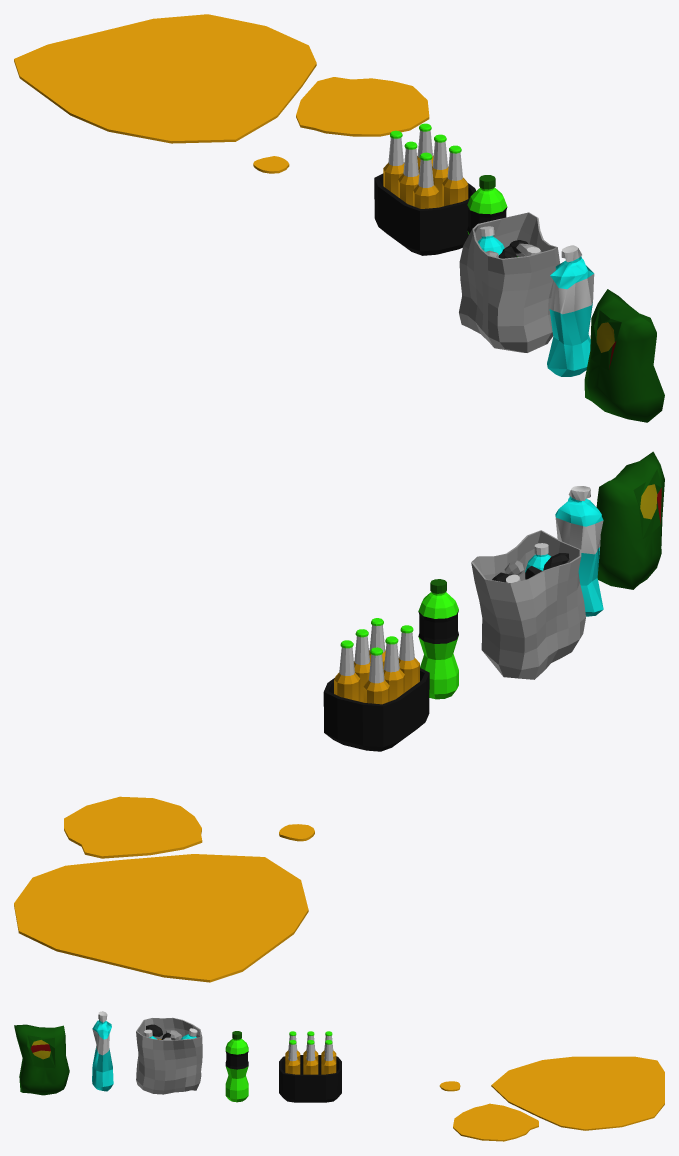
File: Przedmioty.fbx
3 views of the same model, one above another, from view 1: azimuth 30°, elevation 25°; view 2: azimuth 150°, elevation 25°; view 3: azimuth 270°, elevation 25° (orthographic). The views are drawn at different scales.
Visible parts, largest first — view 1: Rzygi, Śmieci, Krata Piwa, Chipsy, Butelka, Soda; view 2: Rzygi, Śmieci, Krata Piwa, Chipsy, Soda, Butelka; view 3: Rzygi, Śmieci, Krata Piwa, Chipsy, Soda, Butelka.
Boxes of the visible parts, x1,y1,x2,y2 form: Rzygi: (14,14,429,173); Śmieci: (459,212,560,352); Krata Piwa: (374,123,475,255); Chipsy: (584,289,664,422); Butelka: (547,245,594,376); Soda: (467,175,507,234); Rzygi: (14,796,314,982); Śmieci: (471,530,585,679); Krata Piwa: (323,618,429,751); Chipsy: (596,451,664,589); Soda: (418,579,458,699); Butelka: (555,486,603,616); Rzygi: (439,1056,664,1141); Śmieci: (136,1017,202,1094); Krata Piwa: (279,1031,341,1102); Chipsy: (14,1024,69,1095); Soda: (225,1031,248,1102); Butelka: (92,1011,113,1091).
Size of the model in its own units: 143 by 62.08 by 470.
